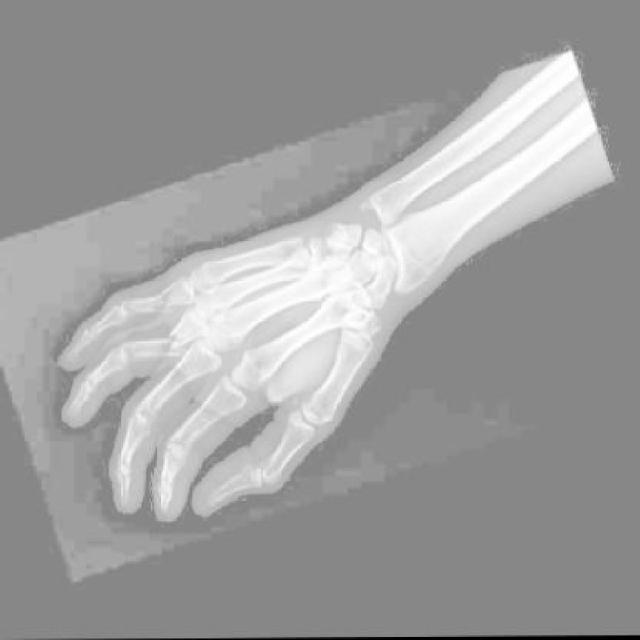bone: (151, 326, 196, 369), (142, 285, 184, 324)
